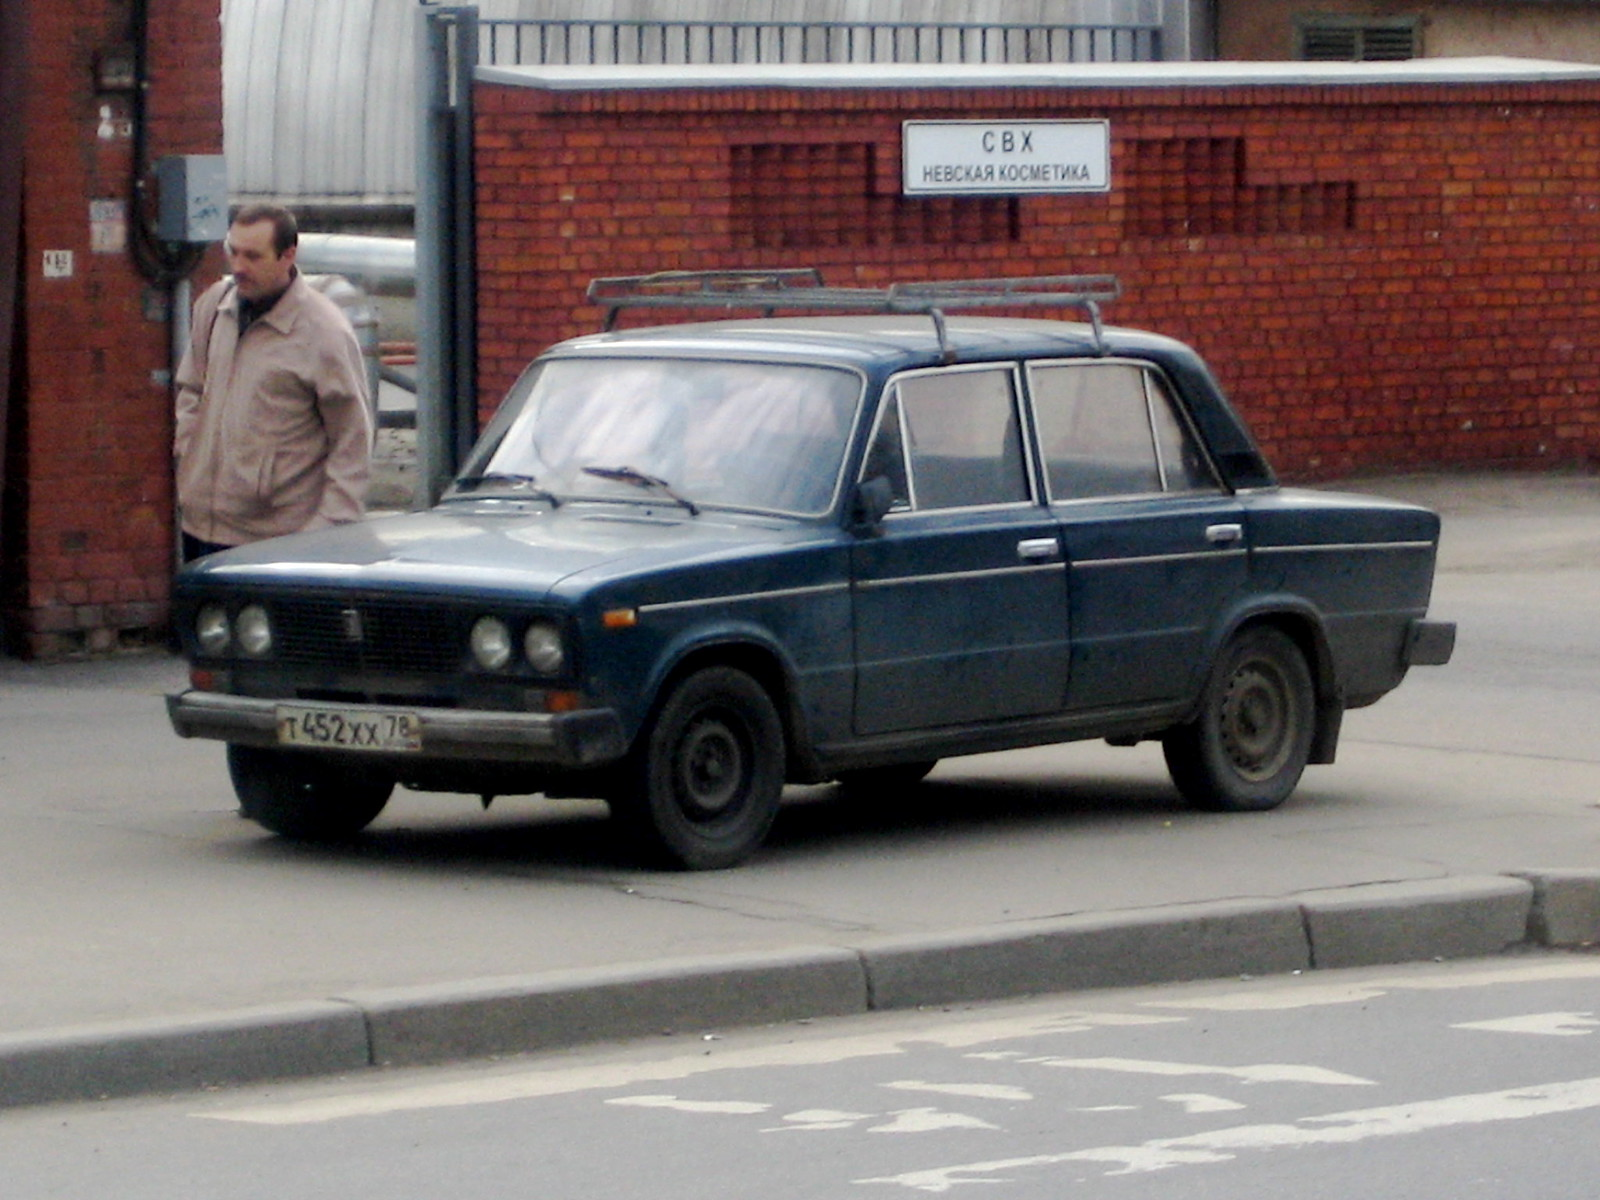car: (166, 562, 591, 769)
plate: (273, 704, 424, 756)
